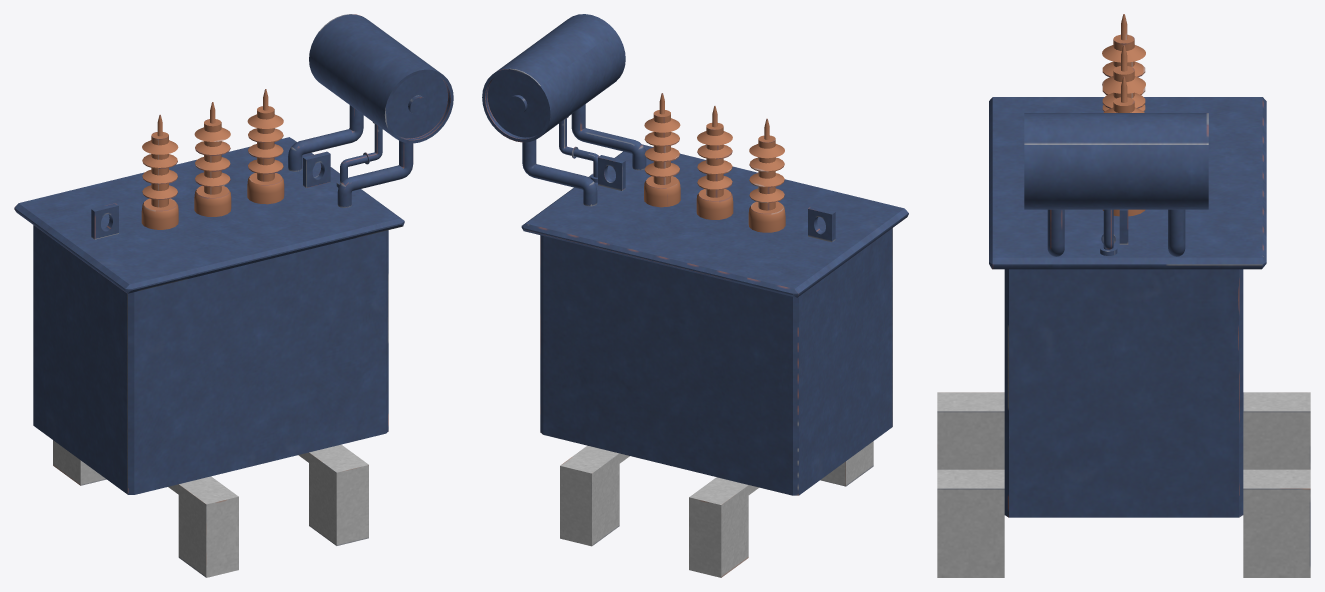
3 renders of one model, left to right at view 1: azimuth 30°, elevation 25°; view 2: azimuth 150°, elevation 25°; view 3: azimuth 270°, elevation 25°, orthographic. The views are drawn at different scales.
Visible parts, largest first — view 1: Transformer; view 2: Transformer; view 3: Transformer.
Boxes of the visible parts, x1,y1,x2,y2 form: Transformer: [14, 14, 453, 577]; Transformer: [482, 14, 908, 577]; Transformer: [937, 14, 1310, 577].
Bounding box in the file's own units: 152 × 179 × 118.
